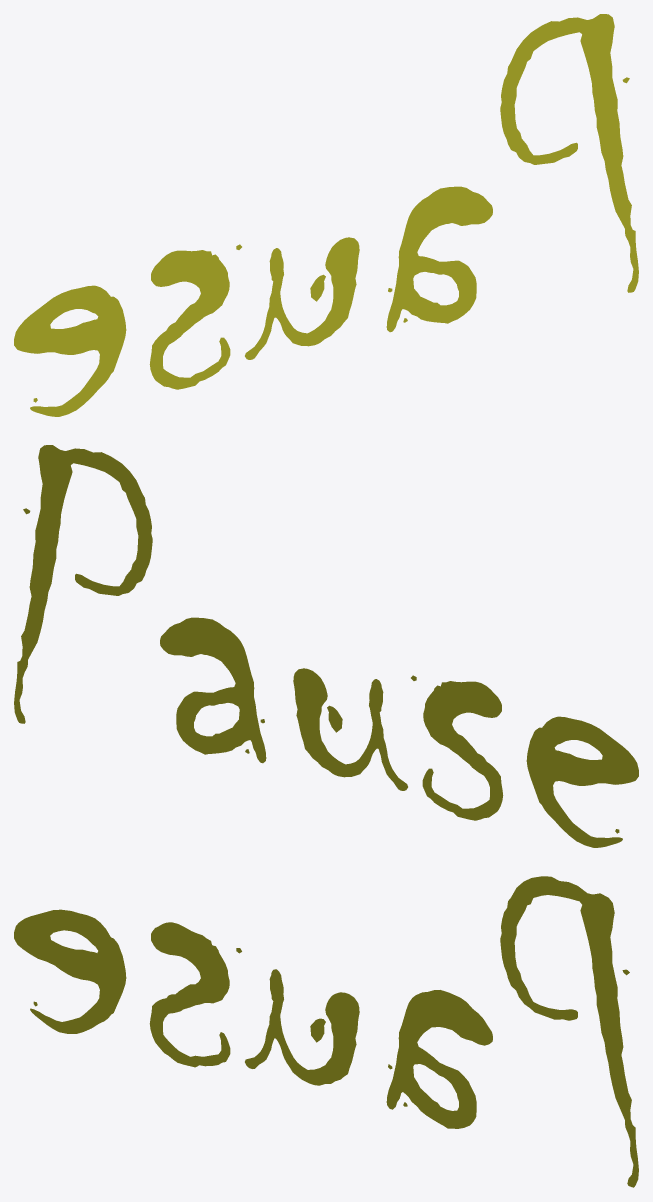
Rendered from pauseText.obj.
3 views of the same model, one above another, from view 1: azimuth 30°, elevation 25°; view 2: azimuth 150°, elevation 25°; view 3: azimuth 330°, elevation 25° (orthographic).
Visible parts, largest first — view 1: pauseText; view 2: pauseText; view 3: pauseText.
Boxes of the visible parts, box(x1,y1,x2,y2) form: pauseText: box(14, 14, 638, 416); pauseText: box(14, 445, 638, 847); pauseText: box(14, 876, 638, 1187).
Size of the model in its own units: 1.39 by 0.6162 by 0.
